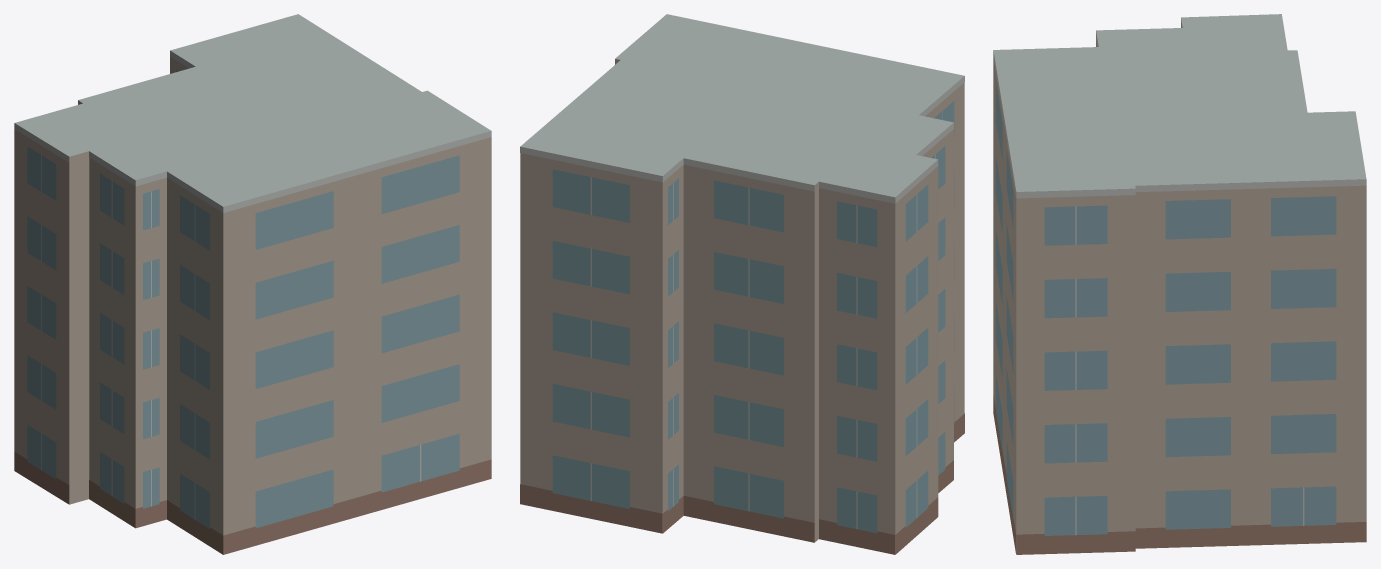
The model's file is survey-upis-32876231.glb.
3 views of the same model, side by side, from view 1: azimuth 30°, elevation 25°; view 2: azimuth 150°, elevation 25°; view 3: azimuth 270°, elevation 25° (orthographic). The views are drawn at different scales.
Parts seen in each view (by area): view 1: survey-upis-32876231.tmp; view 2: survey-upis-32876231.tmp; view 3: survey-upis-32876231.tmp.
Part boxes in pixels (x1,y1,x2,y2): survey-upis-32876231.tmp: (14,14,491,554); survey-upis-32876231.tmp: (520,14,964,554); survey-upis-32876231.tmp: (993,14,1366,554).
Size of the model in its own units: 14.48 by 13.75 by 12.83.
